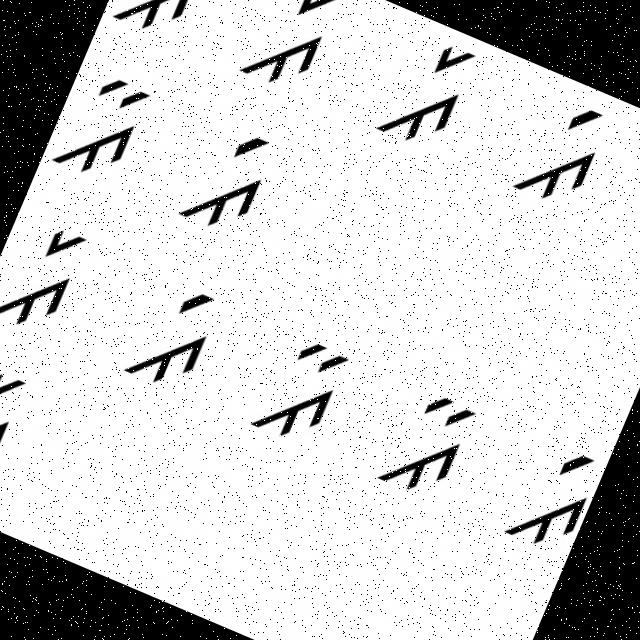kan: (220, 311, 360, 460), (44, 62, 160, 201), (371, 379, 488, 511), (107, 0, 223, 52)
kang: (108, 257, 234, 409), (167, 107, 287, 244), (485, 424, 606, 559), (509, 93, 620, 230)
kar: (363, 25, 484, 163), (0, 205, 102, 349), (235, 0, 354, 103), (0, 343, 43, 497)
